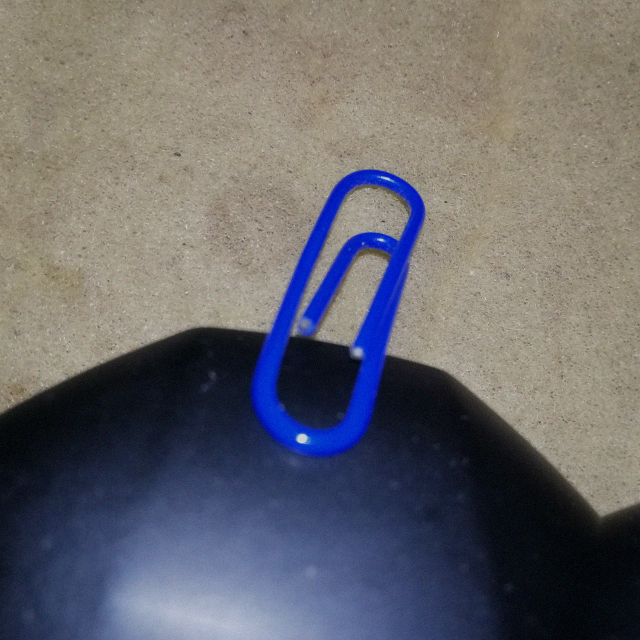pin: (244, 147, 434, 463)
